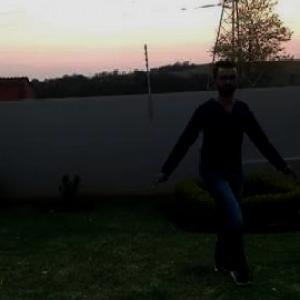land: (150, 56, 280, 274)
